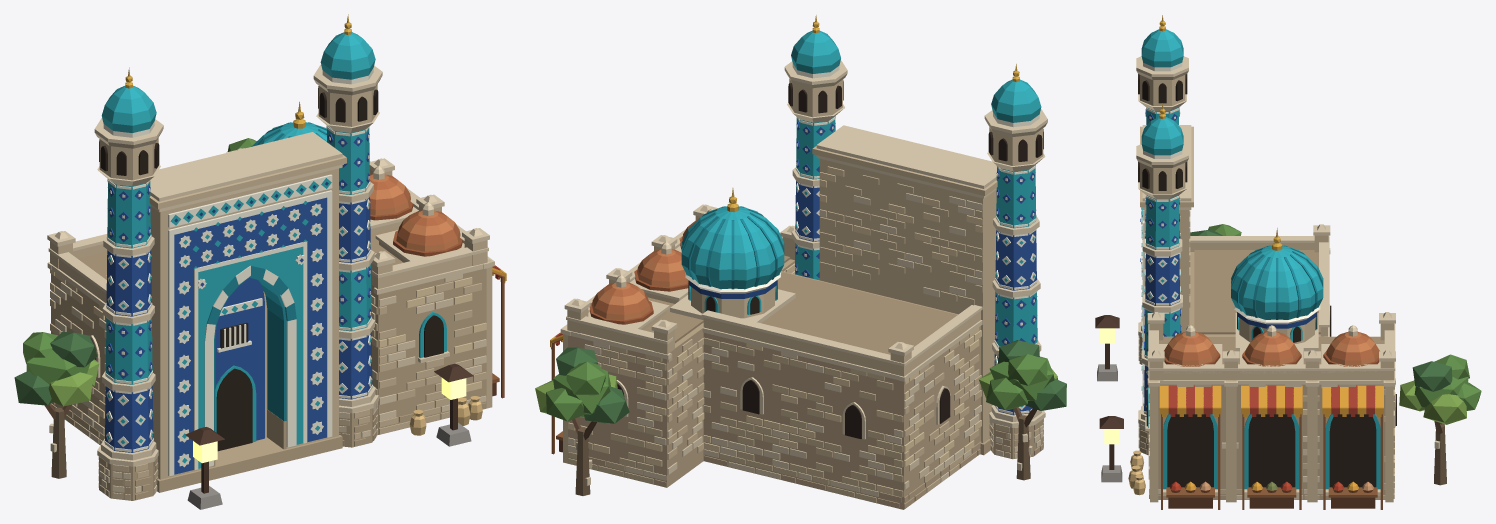
File: blue_dome_bazaar.glb
3 views of the same model, side by side, from view 1: azimuth 30°, elevation 25°; view 2: azimuth 150°, elevation 25°; view 3: azimuth 270°, elevation 25° (orthographic). The views are drawn at different scales.
Visible parts, largest first — view 1: blue_dome_bazaar_BDB_Cobalt, blue_dome_bazaar_BDB_StoneLight, blue_dome_bazaar_BDB_Stone, blue_dome_bazaar_BDB_White, blue_dome_bazaar_BDB_Turquoise, blue_dome_bazaar_BDB_StoneMid, blue_dome_bazaar_BDB_TurquoiseDeep, blue_dome_bazaar_BDB_Dark, blue_dome_bazaar_BDB_DeepArch, blue_dome_bazaar_BDB_LeafFreshDark, blue_dome_bazaar_BDB_LeafFresh, blue_dome_bazaar_BDB_TerracottaLight (+11 smaller); view 2: blue_dome_bazaar_BDB_Stone, blue_dome_bazaar_BDB_StoneLight, blue_dome_bazaar_BDB_StoneMid, blue_dome_bazaar_BDB_Turquoise, blue_dome_bazaar_BDB_StoneShade, blue_dome_bazaar_BDB_Cream, blue_dome_bazaar_BDB_LeafFresh, blue_dome_bazaar_BDB_Cobalt, blue_dome_bazaar_BDB_Dark, blue_dome_bazaar_BDB_LeafFreshDark, blue_dome_bazaar_BDB_White, blue_dome_bazaar_BDB_Terracotta (+5 smaller); view 3: blue_dome_bazaar_BDB_Stone, blue_dome_bazaar_BDB_StoneLight, blue_dome_bazaar_BDB_Turquoise, blue_dome_bazaar_BDB_DeepArch, blue_dome_bazaar_BDB_StoneShade, blue_dome_bazaar_BDB_StoneMid, blue_dome_bazaar_BDB_Saffron, blue_dome_bazaar_BDB_WoodLight, blue_dome_bazaar_BDB_ClothRed, blue_dome_bazaar_BDB_White, blue_dome_bazaar_BDB_TerracottaLight, blue_dome_bazaar_BDB_Terracotta (+14 smaller).
Boxes of the visible parts, left/top/right/bottom form: blue_dome_bazaar_BDB_Cobalt: left=105, top=131, right=372, bottom=474; blue_dome_bazaar_BDB_StoneLight: left=47, top=64, right=494, bottom=494; blue_dome_bazaar_BDB_Stone: left=50, top=84, right=492, bottom=500; blue_dome_bazaar_BDB_White: left=103, top=68, right=373, bottom=476; blue_dome_bazaar_BDB_Turquoise: left=101, top=32, right=375, bottom=468; blue_dome_bazaar_BDB_StoneMid: left=51, top=268, right=486, bottom=500; blue_dome_bazaar_BDB_TurquoiseDeep: left=207, top=122, right=326, bottom=431; blue_dome_bazaar_BDB_Dark: left=90, top=86, right=443, bottom=360; blue_dome_bazaar_BDB_DeepArch: left=216, top=368, right=252, bottom=451; blue_dome_bazaar_BDB_LeafFreshDark: left=14, top=332, right=97, bottom=405; blue_dome_bazaar_BDB_LeafFresh: left=23, top=138, right=256, bottom=384; blue_dome_bazaar_BDB_TerracottaLight: left=370, top=174, right=460, bottom=251; blue_dome_bazaar_BDB_Stone: left=563, top=79, right=1043, bottom=502; blue_dome_bazaar_BDB_StoneLight: left=560, top=60, right=1047, bottom=496; blue_dome_bazaar_BDB_StoneMid: left=568, top=259, right=1043, bottom=509; blue_dome_bazaar_BDB_Turquoise: left=681, top=30, right=1041, bottom=407; blue_dome_bazaar_BDB_StoneShade: left=644, top=255, right=957, bottom=354; blue_dome_bazaar_BDB_Cream: left=568, top=166, right=982, bottom=494; blue_dome_bazaar_BDB_LeafFresh: left=546, top=354, right=1054, bottom=421; blue_dome_bazaar_BDB_Cobalt: left=795, top=121, right=1037, bottom=415; blue_dome_bazaar_BDB_Dark: left=617, top=80, right=1043, bottom=438; blue_dome_bazaar_BDB_LeafFreshDark: left=556, top=340, right=1066, bottom=423; blue_dome_bazaar_BDB_White: left=685, top=63, right=1039, bottom=414; blue_dome_bazaar_BDB_Terracotta: left=592, top=217, right=699, bottom=314; blue_dome_bazaar_BDB_Stone: left=1138, top=75, right=1394, bottom=502; blue_dome_bazaar_BDB_StoneLight: left=1136, top=56, right=1439, bottom=499; blue_dome_bazaar_BDB_Turquoise: left=1141, top=29, right=1323, bottom=403; blue_dome_bazaar_BDB_DeepArch: left=1167, top=414, right=1376, bottom=487; blue_dome_bazaar_BDB_StoneShade: left=1159, top=250, right=1384, bottom=364; blue_dome_bazaar_BDB_StoneMid: left=1138, top=252, right=1385, bottom=499; blue_dome_bazaar_BDB_Saffron: left=1159, top=385, right=1383, bottom=490; blue_dome_bazaar_BDB_WoodLight: left=1161, top=414, right=1382, bottom=509; blue_dome_bazaar_BDB_ClothRed: left=1168, top=385, right=1375, bottom=416; blue_dome_bazaar_BDB_White: left=1141, top=62, right=1320, bottom=413; blue_dome_bazaar_BDB_TerracottaLight: left=1164, top=332, right=1379, bottom=365; blue_dome_bazaar_BDB_Terracotta: left=1164, top=331, right=1378, bottom=360.
Size of the model in its own units: 4.1 by 3.6 by 3.64.
